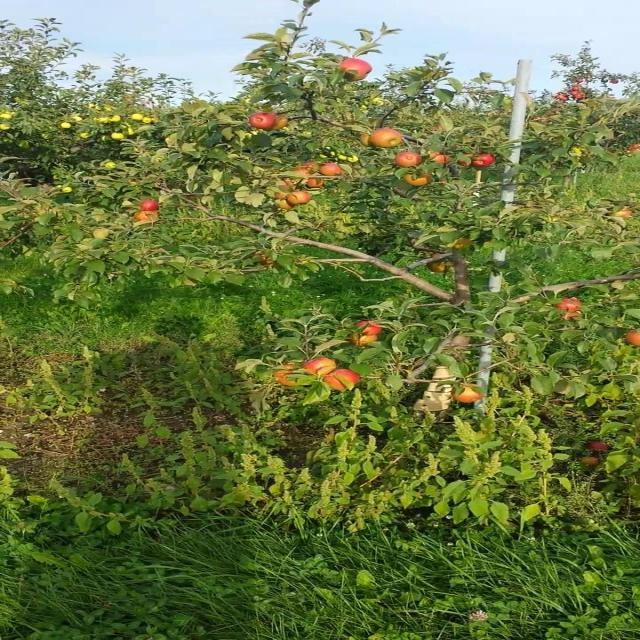apple: (326, 368, 363, 392), (340, 60, 375, 81), (454, 384, 485, 404), (376, 128, 405, 148), (305, 360, 340, 376), (276, 368, 300, 387), (397, 152, 425, 168), (362, 320, 384, 336), (404, 176, 432, 188), (248, 116, 272, 129), (355, 336, 379, 348), (319, 164, 343, 176), (291, 192, 313, 204), (476, 156, 498, 168), (134, 212, 158, 223), (255, 252, 277, 264), (582, 456, 603, 468), (433, 152, 452, 165), (141, 200, 162, 211), (276, 200, 297, 211), (362, 132, 377, 147), (625, 332, 639, 347), (276, 116, 292, 129), (554, 304, 580, 312), (611, 208, 633, 217), (454, 240, 475, 249), (276, 180, 297, 189), (589, 444, 612, 452), (461, 156, 476, 168), (426, 264, 448, 272), (305, 180, 327, 188), (561, 300, 583, 307), (92, 232, 108, 240), (298, 168, 313, 176), (568, 312, 583, 320), (276, 192, 290, 200), (305, 164, 318, 169)
